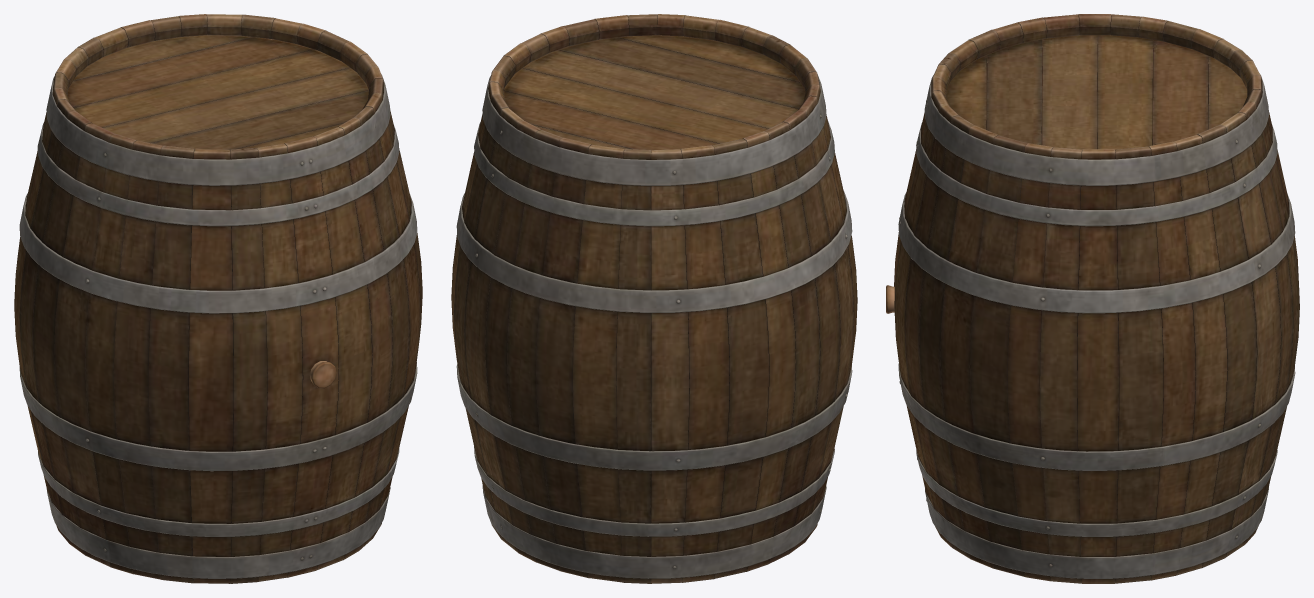
3 views of the same model, side by side, from view 1: azimuth 30°, elevation 25°; view 2: azimuth 150°, elevation 25°; view 3: azimuth 270°, elevation 25° (orthographic).
Visible parts, largest first — view 1: wine_barrel_01_lod0; view 2: wine_barrel_01_lod0; view 3: wine_barrel_01_lod0.
Boxes of the visible parts, left/top/right/bottom form: wine_barrel_01_lod0: left=14, top=14, right=422, bottom=583; wine_barrel_01_lod0: left=451, top=14, right=857, bottom=583; wine_barrel_01_lod0: left=886, top=14, right=1299, bottom=583.
Size of the model in its own units: 0.7419 by 0.8713 by 0.756.
Materials: 1 (1 with a texture image).
